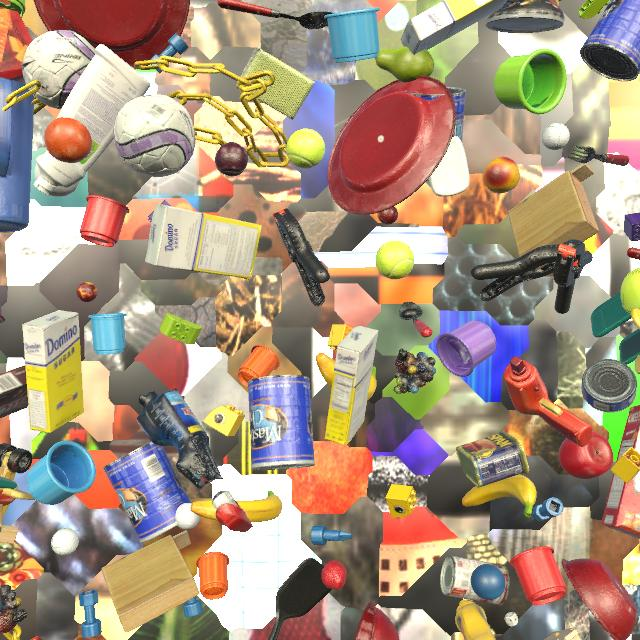ycb_002_master_chef_can: (103, 442, 191, 543), (247, 375, 315, 470), (407, 86, 466, 180), (580, 0, 640, 82)
ycb_003_cracker_box: (601, 405, 640, 539), (0, 0, 33, 85), (31, 636, 43, 640)
ycb_004_sugar_box: (145, 204, 262, 280), (22, 310, 84, 433), (324, 326, 379, 445), (401, 0, 507, 55)
ycb_005_tomato_soup_can: (440, 556, 510, 606)
ycb_006_mustard_bottle: (455, 600, 496, 640)
ycb_007_tuna_fish_can: (581, 359, 637, 413)
ycb_008_pudding_box: (0, 366, 28, 418)
ycb_010_potted_meat_can: (456, 430, 529, 488)
ycb_011_banana: (462, 474, 536, 518), (190, 490, 282, 523), (316, 353, 377, 401)
ycb_012_strawberry: (321, 560, 346, 590)
ycb_013_apple: (559, 432, 614, 479)
ycb_015_peach: (483, 157, 520, 193)
ycb_016_pear: (375, 46, 434, 83)
ycb_017_orange: (44, 117, 92, 163)
ycb_018_plum: (215, 142, 248, 176)
